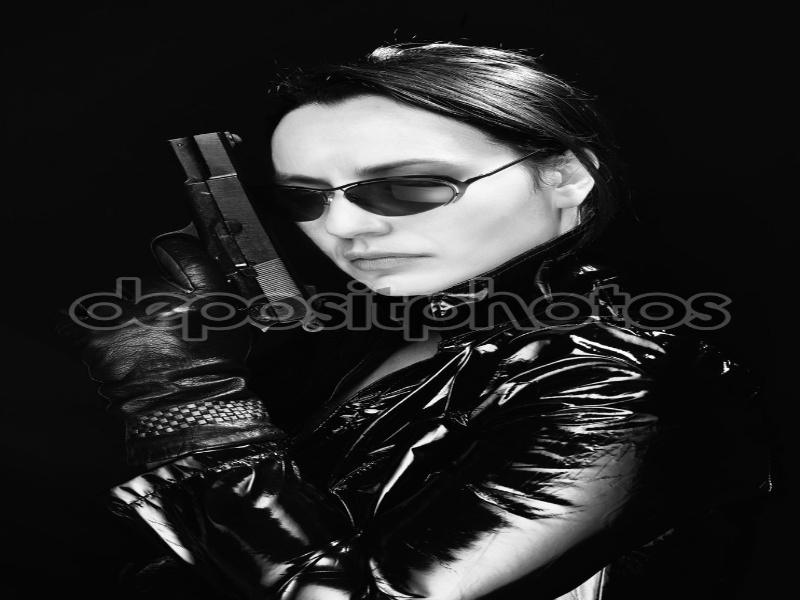gun: (73, 120, 317, 371)
